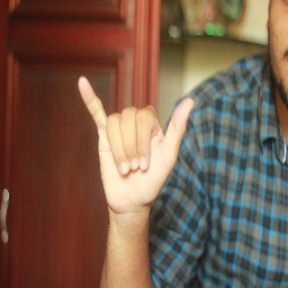J: (74, 70, 199, 212)
